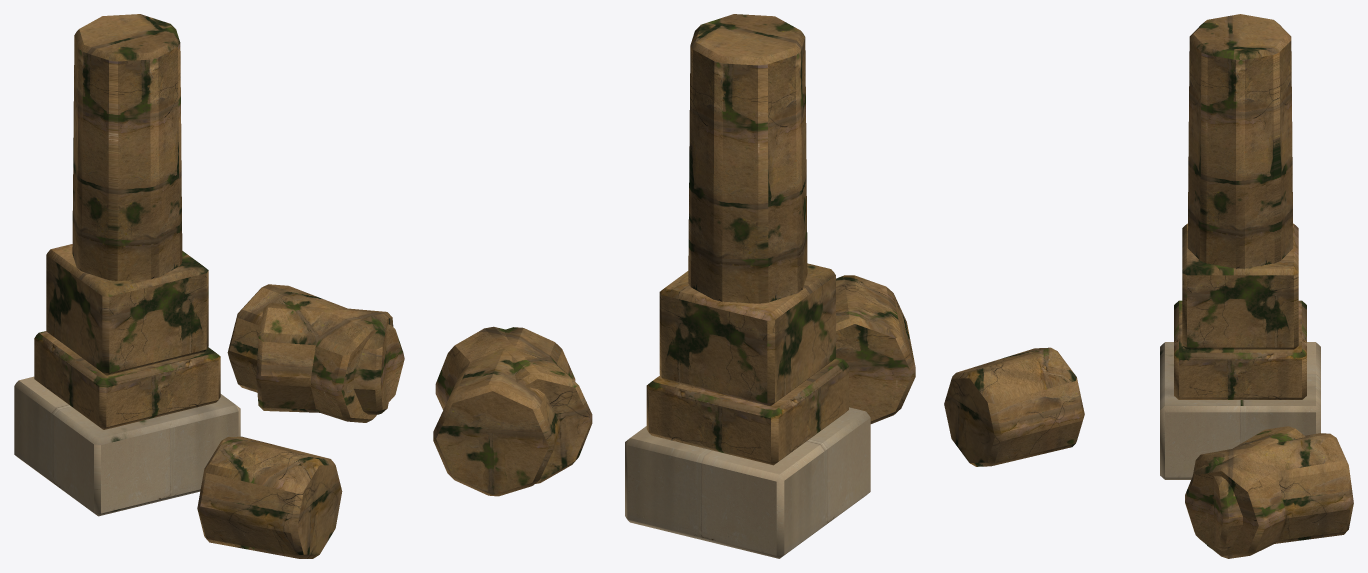
The model's file is Pillar_Broken1.fbx.
3 renders of one model, left to right at view 1: azimuth 30°, elevation 25°; view 2: azimuth 150°, elevation 25°; view 3: azimuth 270°, elevation 25°, orthographic. The views are drawn at different scales.
Parts seen in each view (by area): view 1: Pillar_Broken1_LOD0; view 2: Pillar_Broken1_LOD0; view 3: Pillar_Broken1_LOD0.
Boxes of the visible parts, box(x1,y1,x2,y2) form: Pillar_Broken1_LOD0: box(14, 14, 404, 558); Pillar_Broken1_LOD0: box(433, 14, 915, 558); Pillar_Broken1_LOD0: box(944, 14, 1353, 558).
Size of what is drawn, in the model's own units: 2.35 by 2.8 by 2.51.
